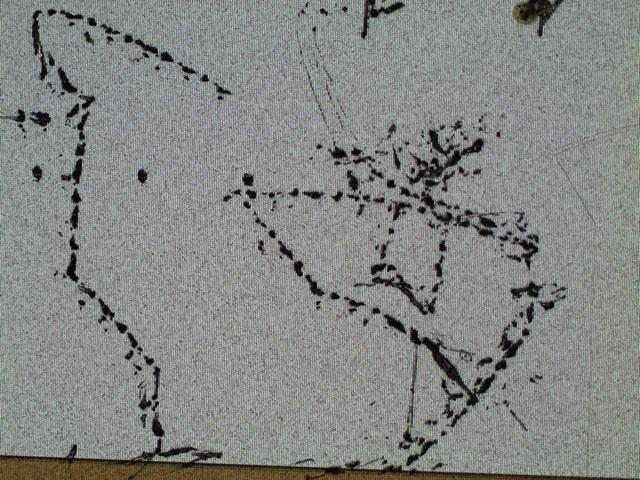SCRATCH: (1, 1, 564, 480)
